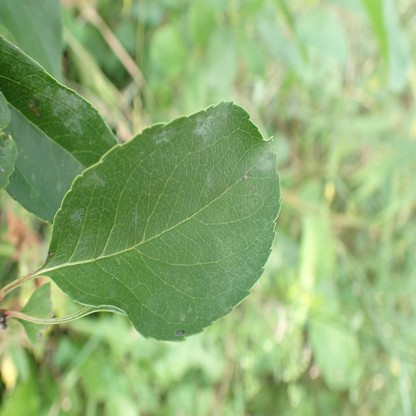powdery_mildew: (194, 102, 275, 312), (35, 84, 82, 136), (82, 169, 106, 187), (153, 126, 178, 143), (68, 207, 83, 228), (55, 180, 62, 192), (30, 172, 38, 182), (28, 99, 34, 109), (180, 313, 186, 319), (187, 306, 193, 312)
